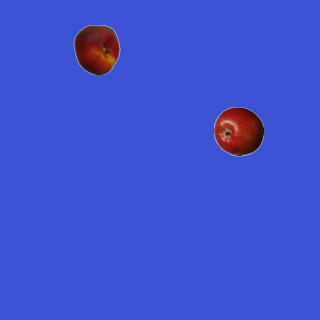Apple Braeburn: (213, 106, 263, 156)
Nectarine Flat: (71, 24, 121, 74)
